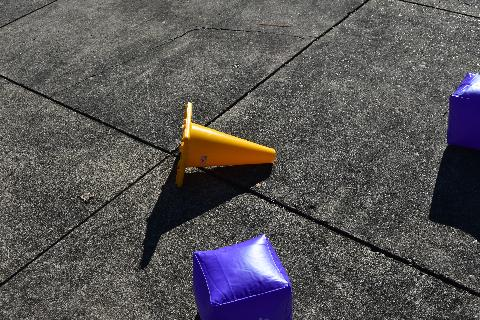cone: (175, 102, 275, 188)
cube: (192, 234, 292, 320), (446, 72, 480, 150)
